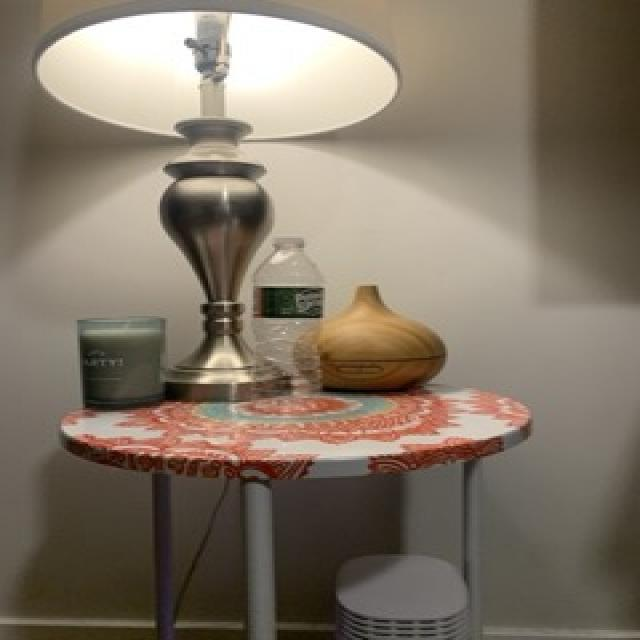water_bottle: (250, 233, 324, 420)
